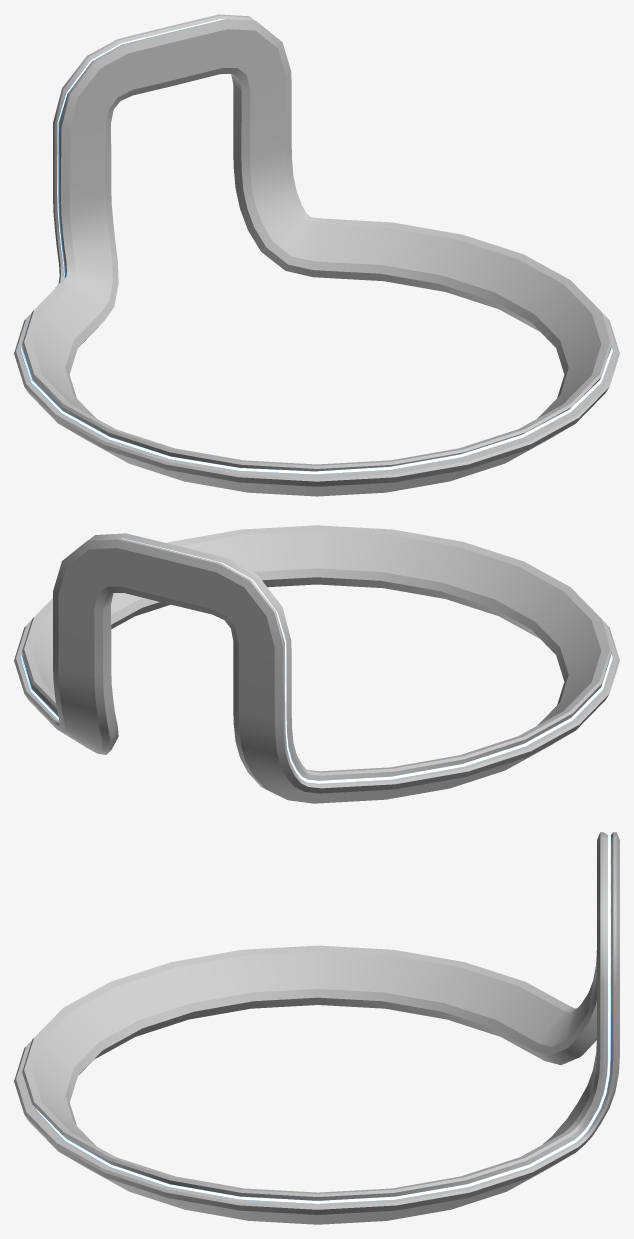
File: ArchSign.fbx
The picture shows the model from 3 angles, top to bottom: view 1: azimuth 30°, elevation 25°; view 2: azimuth 150°, elevation 25°; view 3: azimuth 270°, elevation 25°; orthographic projection.
Visible parts, largest first — view 1: ArchSign; view 2: ArchSign; view 3: ArchSign.
Part boxes in pixels (x1,y1,x2,y2): ArchSign: (14,14,619,496); ArchSign: (14,525,619,803); ArchSign: (14,832,619,1224).
Bounding box in the file's own units: 8.69 × 3.97 × 8.66.
